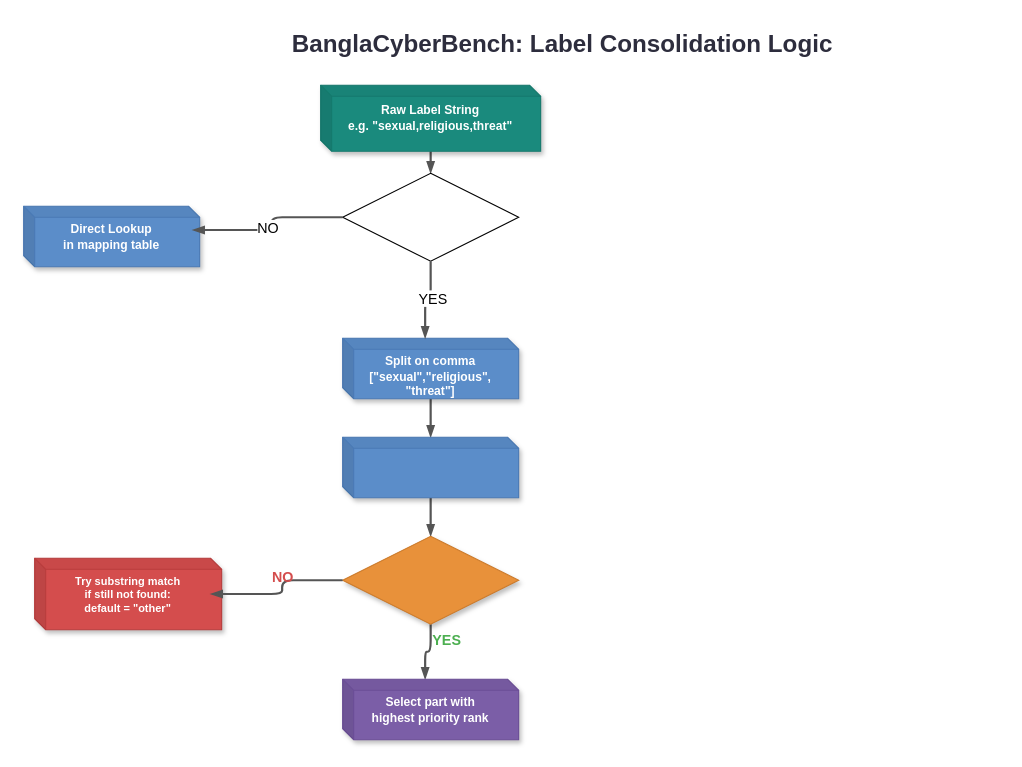
Some shapes in this 1022 by 767 pixel diagram are drawn without their labels. Here are the shapes that lost their labels. From the top down, the centre of each, then its label:
point 430,216: Contains comma?
point 431,468: For each part: lookup in priority table record priority rank
point 431,581: All parts found?
